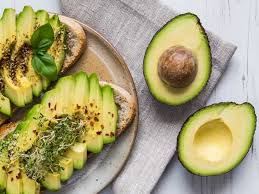aguacate: (134, 7, 214, 110), (174, 98, 258, 180)
